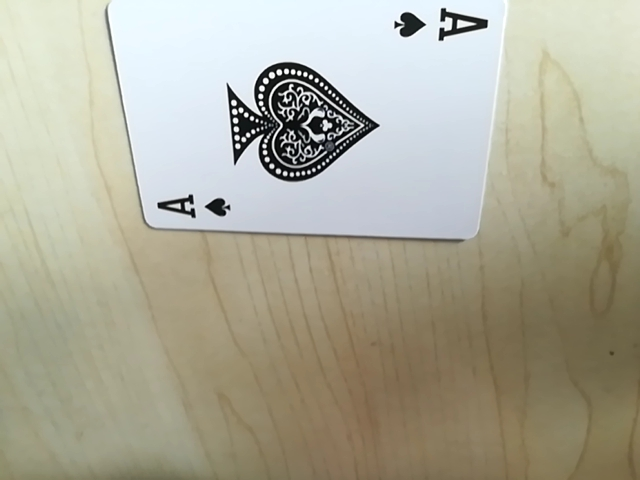ht a: (388, 0, 490, 50), (148, 189, 235, 226)
